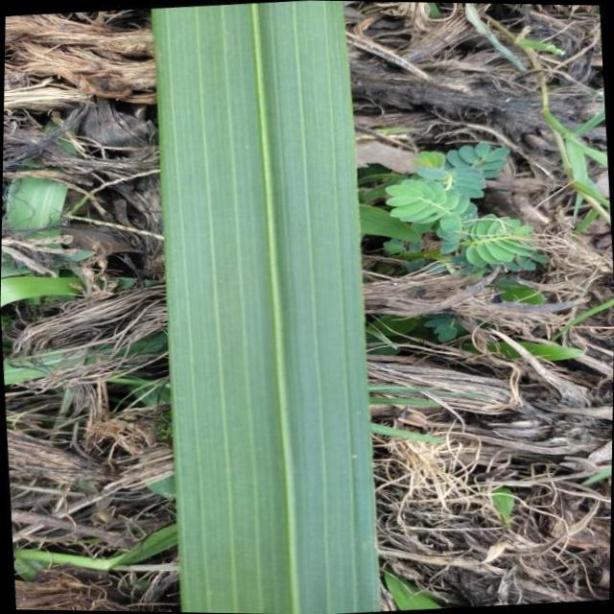Healthy: (153, 1, 382, 614)
